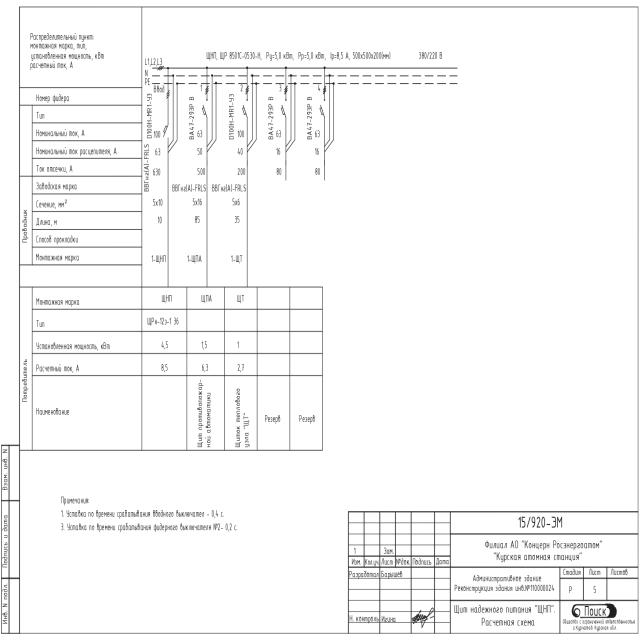-: (219, 49, 392, 63), (188, 94, 207, 178), (266, 95, 285, 178), (303, 96, 322, 179), (144, 94, 163, 176), (228, 92, 246, 176)
QF: (162, 89, 171, 142), (241, 85, 250, 123), (280, 84, 289, 122), (201, 85, 210, 122), (319, 84, 328, 121)
